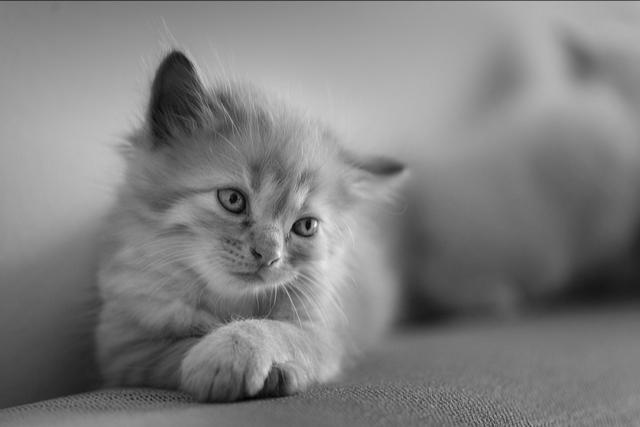Non_Gorille: (56, 0, 588, 396)
